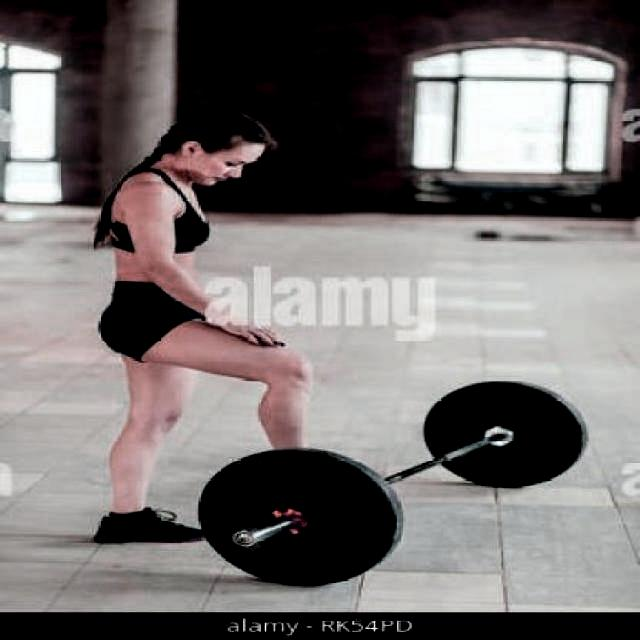barbell: (190, 440, 417, 595)
